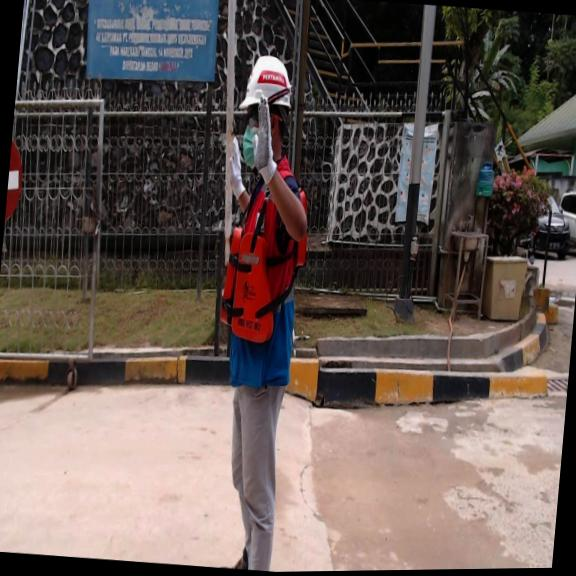safety_vest: (215, 222, 285, 354)
